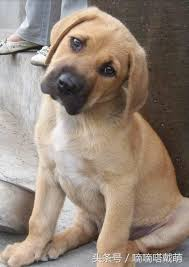dog: (37, 8, 148, 117)
